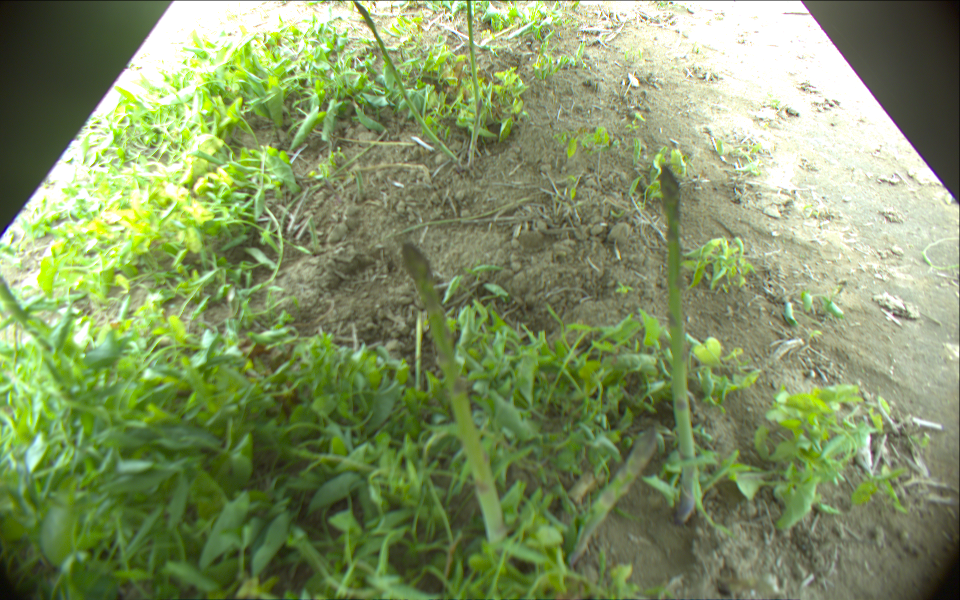aspa: (401, 241, 510, 547), (353, 1, 461, 160), (563, 427, 663, 568), (662, 161, 700, 523), (1, 273, 64, 355), (460, 1, 481, 165)
